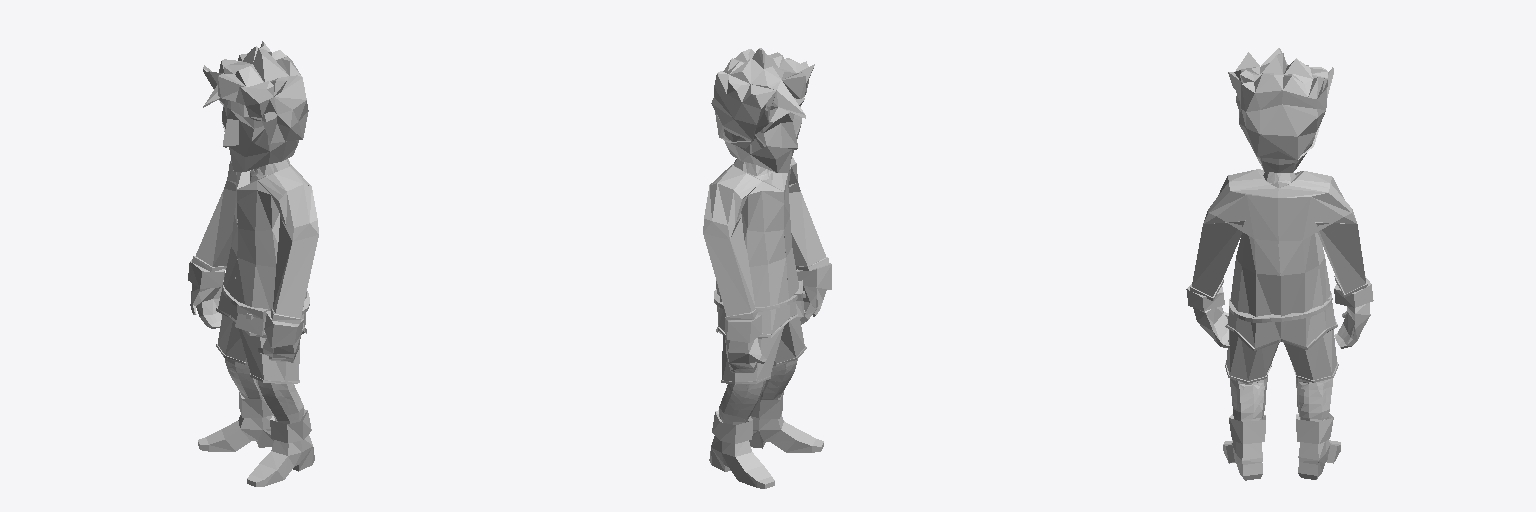
Rendered from idleNoWeapon9.obj.
3 views of the same model, side by side, from view 1: azimuth 30°, elevation 25°; view 2: azimuth 150°, elevation 25°; view 3: azimuth 270°, elevation 25° (orthographic).
Visible parts, largest first — view 1: Jacket__jaket_Cylinder.001_Jacket__jaket_Cylinder.001_P_e8d_Jack, Hair_Hair__Cube.000_Hair_Hair__Cube.000_PlayerMaterialOffic_Hair, Head_Head_Cube.000_Head_Head_Cube.000_PlayerMaterialOfficia_Head, Boot_right_bota_Cube.000_Boot_right_bota_Cube.000_Playe_7d6_Boot, Trausers_trausers_Cylinder.000_Trausers_trausers_Cylind_bfd_Trau, Humanoide_Body_Base_Modified_Humanoide_Base_Base_NPC__c_7f8_Huma, Boot_left_bota_Cube.001_Boot_left_bota_Cube.001_PlayerM_5d3_Boot, Globe_left_globe_Cylinder.001_Globe_left_globe_Cylinder_383_Glob, Globe_right_globe_Cylinder.005_Globe_right_globe_Cylind_70e_Glob, Bag_Cube_Cube.001_Bag_Cube_Cube.001_PlayerMaterialOfficial.001_B; view 2: Jacket__jaket_Cylinder.001_Jacket__jaket_Cylinder.001_P_e8d_Jack, Hair_Hair__Cube.000_Hair_Hair__Cube.000_PlayerMaterialOffic_Hair, Head_Head_Cube.000_Head_Head_Cube.000_PlayerMaterialOfficia_Head, Boot_left_bota_Cube.001_Boot_left_bota_Cube.001_PlayerM_5d3_Boot, Humanoide_Body_Base_Modified_Humanoide_Base_Base_NPC__c_7f8_Huma, Trausers_trausers_Cylinder.000_Trausers_trausers_Cylind_bfd_Trau, Boot_right_bota_Cube.000_Boot_right_bota_Cube.000_Playe_7d6_Boot, Globe_left_globe_Cylinder.001_Globe_left_globe_Cylinder_383_Glob, Globe_right_globe_Cylinder.005_Globe_right_globe_Cylind_70e_Glob; view 3: Jacket__jaket_Cylinder.001_Jacket__jaket_Cylinder.001_P_e8d_Jack, Hair_Hair__Cube.000_Hair_Hair__Cube.000_PlayerMaterialOffic_Hair, Trausers_trausers_Cylinder.000_Trausers_trausers_Cylind_bfd_Trau, Humanoide_Body_Base_Modified_Humanoide_Base_Base_NPC__c_7f8_Huma, Boot_left_bota_Cube.001_Boot_left_bota_Cube.001_PlayerM_5d3_Boot, Boot_right_bota_Cube.000_Boot_right_bota_Cube.000_Playe_7d6_Boot, Globe_left_globe_Cylinder.001_Globe_left_globe_Cylinder_383_Glob, Globe_right_globe_Cylinder.005_Globe_right_globe_Cylind_70e_Glob, Belt_Cylinder.001_Belt_Cylinder.001_PlayerMaterialOfficial.001_B, Head_Head_Cube.000_Head_Head_Cube.000_PlayerMaterialOfficia_Head.
Part boxes in pixels (x1,y1,x2,y2): Jacket__jaket_Cylinder.001_Jacket__jaket_Cylinder.001_P_e8d_Jack: (192,161,318,337); Hair_Hair__Cube.000_Hair_Hair__Cube.000_PlayerMaterialOffic_Hair: (203,41,308,143); Head_Head_Cube.000_Head_Head_Cube.000_PlayerMaterialOfficia_Head: (219,98,298,171); Boot_right_bota_Cube.000_Boot_right_bota_Cube.000_Playe_7d6_Boot: (247,409,314,486); Trausers_trausers_Cylinder.000_Trausers_trausers_Cylind_bfd_Trau: (216,314,299,383); Humanoide_Body_Base_Modified_Humanoide_Base_Base_NPC__c_7f8_Huma: (225,159,304,423); Boot_left_bota_Cube.001_Boot_left_bota_Cube.001_PlayerM_5d3_Boot: (198,391,273,451); Globe_left_globe_Cylinder.001_Globe_left_globe_Cylinder_383_Glob: (188,260,224,328); Globe_right_globe_Cylinder.005_Globe_right_globe_Cylind_70e_Glob: (258,313,303,362); Bag_Cube_Cube.001_Bag_Cube_Cube.001_PlayerMaterialOfficial.001_B: (235,303,267,335); Jacket__jaket_Cylinder.001_Jacket__jaket_Cylinder.001_P_e8d_Jack: (703,157,829,338); Hair_Hair__Cube.000_Hair_Hair__Cube.000_PlayerMaterialOffic_Hair: (711,48,814,148); Head_Head_Cube.000_Head_Head_Cube.000_PlayerMaterialOfficia_Head: (723,97,804,172); Boot_left_bota_Cube.001_Boot_left_bota_Cube.001_PlayerM_5d3_Boot: (709,410,774,488); Humanoide_Body_Base_Modified_Humanoide_Base_Base_NPC__c_7f8_Huma: (719,159,797,424); Trausers_trausers_Cylinder.000_Trausers_trausers_Cylind_bfd_Trau: (721,317,806,384); Boot_right_bota_Cube.000_Boot_right_bota_Cube.000_Playe_7d6_Boot: (749,391,823,452); Globe_left_globe_Cylinder.001_Globe_left_globe_Cylinder_383_Glob: (724,314,766,372); Globe_right_globe_Cylinder.005_Globe_right_globe_Cylind_70e_Glob: (796,263,831,324); Jacket__jaket_Cylinder.001_Jacket__jaket_Cylinder.001_P_e8d_Jack: (1190,169,1367,350); Hair_Hair__Cube.000_Hair_Hair__Cube.000_PlayerMaterialOffic_Hair: (1228,48,1333,160); Trausers_trausers_Cylinder.000_Trausers_trausers_Cylind_bfd_Trau: (1225,329,1338,383); Humanoide_Body_Base_Modified_Humanoide_Base_Base_NPC__c_7f8_Huma: (1230,172,1332,421); Boot_left_bota_Cube.001_Boot_left_bota_Cube.001_PlayerM_5d3_Boot: (1296,413,1340,479); Boot_right_bota_Cube.000_Boot_right_bota_Cube.000_Playe_7d6_Boot: (1223,414,1265,480); Globe_left_globe_Cylinder.001_Globe_left_globe_Cylinder_383_Glob: (1334,276,1373,348); Globe_right_globe_Cylinder.005_Globe_right_globe_Cylind_70e_Glob: (1186,284,1229,347); Belt_Cylinder.001_Belt_Cylinder.001_PlayerMaterialOfficial.001_B: (1229,293,1332,322); Head_Head_Cube.000_Head_Head_Cube.000_PlayerMaterialOfficia_Head: (1255,133,1315,172).
Bounding box in the file's own units: 9.33 × 39.9 × 16.43.